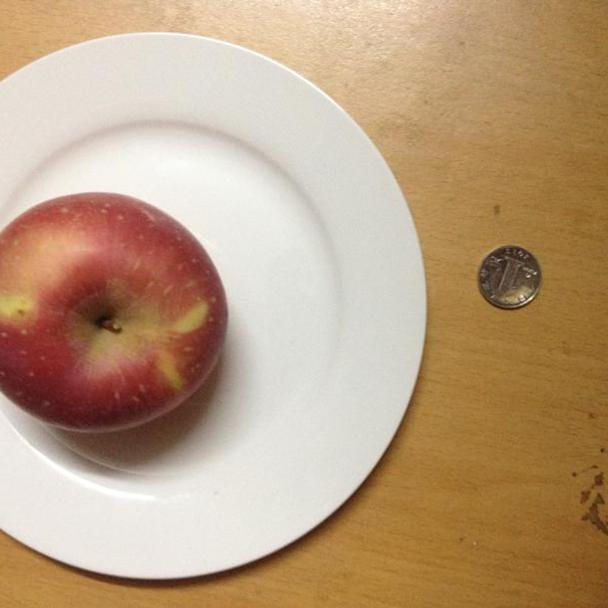apple: (1, 191, 230, 432)
